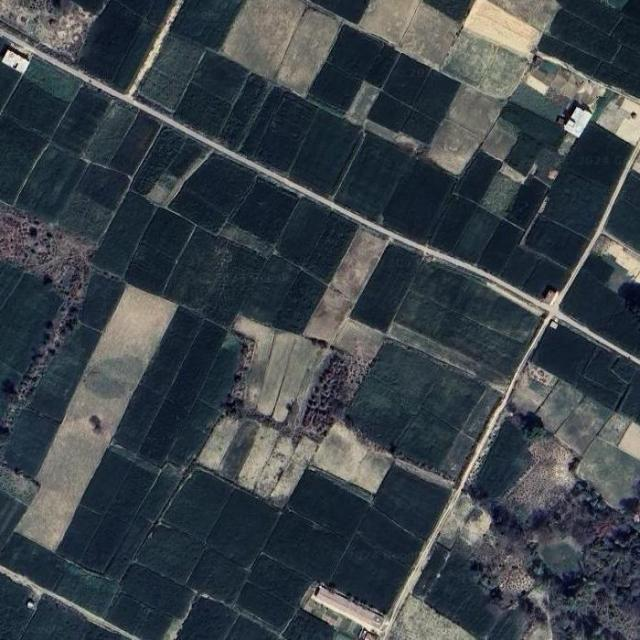land-Sx1C: (16, 285, 176, 550), (388, 260, 541, 393), (347, 339, 489, 471), (136, 318, 230, 468), (113, 307, 203, 454), (161, 227, 266, 329), (414, 537, 509, 640), (304, 227, 387, 342), (79, 463, 160, 574), (102, 470, 181, 583), (559, 250, 640, 360), (26, 321, 100, 423), (167, 153, 257, 236), (286, 107, 364, 201), (328, 533, 413, 619), (502, 434, 578, 530), (333, 133, 413, 224), (379, 159, 457, 248), (349, 242, 424, 334), (223, 0, 306, 81), (0, 273, 64, 377), (263, 509, 348, 586), (309, 420, 395, 495), (574, 436, 640, 532), (373, 463, 455, 540), (286, 469, 369, 543), (273, 7, 341, 96), (12, 145, 88, 224), (252, 90, 320, 177), (206, 489, 280, 568), (88, 191, 155, 276), (1, 0, 93, 60), (77, 0, 142, 82), (161, 468, 233, 542), (136, 34, 203, 112), (472, 421, 534, 504), (563, 121, 635, 192), (19, 594, 131, 639), (232, 174, 300, 245), (543, 169, 611, 240), (463, 0, 540, 60), (272, 338, 326, 423), (49, 85, 111, 159), (530, 320, 598, 387), (217, 73, 272, 153), (148, 137, 211, 205), (399, 1, 462, 68), (2, 78, 68, 141), (135, 523, 204, 583), (386, 596, 479, 640), (394, 409, 460, 471), (121, 565, 194, 621), (358, 507, 425, 568), (0, 535, 70, 593), (129, 126, 187, 195), (1, 409, 58, 479), (232, 315, 274, 409), (521, 215, 589, 273), (304, 213, 360, 283), (538, 533, 604, 592), (548, 10, 621, 63), (0, 118, 46, 202), (170, 0, 244, 52), (167, 400, 221, 471), (242, 257, 300, 323), (276, 198, 331, 267), (200, 333, 247, 412), (269, 433, 318, 508), (186, 548, 248, 607), (269, 271, 326, 334), (312, 586, 385, 635), (238, 83, 284, 160), (445, 82, 506, 140), (108, 112, 162, 177), (54, 566, 119, 620), (80, 449, 132, 516), (249, 555, 314, 608), (439, 28, 498, 86), (234, 421, 281, 493), (84, 101, 135, 167), (173, 83, 231, 141), (259, 332, 297, 420), (553, 399, 611, 456), (499, 101, 565, 151), (252, 431, 298, 502), (424, 119, 482, 174), (113, 23, 158, 93), (56, 192, 113, 247), (604, 169, 640, 255), (215, 415, 261, 482), (326, 25, 382, 80), (235, 581, 293, 634), (429, 192, 478, 254), (108, 595, 175, 640), (193, 51, 249, 104), (506, 364, 557, 421), (452, 207, 501, 266), (0, 571, 42, 639), (79, 270, 125, 332), (194, 411, 240, 473), (175, 596, 239, 640), (357, 0, 421, 44), (537, 33, 601, 77), (331, 319, 389, 367), (54, 506, 101, 565), (142, 209, 195, 261), (532, 380, 584, 433), (25, 56, 82, 103), (509, 84, 571, 127), (308, 64, 362, 113), (478, 220, 525, 276), (479, 46, 528, 99), (125, 244, 176, 294), (384, 54, 431, 108), (414, 69, 461, 123), (505, 175, 550, 230), (303, 599, 363, 639), (77, 165, 129, 211), (434, 492, 475, 550), (456, 152, 502, 203), (489, 0, 560, 33), (558, 1, 624, 35), (519, 258, 571, 301), (463, 388, 505, 441), (596, 93, 640, 143), (586, 347, 628, 397), (482, 603, 538, 640), (505, 130, 546, 176), (220, 223, 274, 257), (481, 172, 520, 218), (499, 247, 540, 290), (367, 93, 411, 132), (441, 432, 476, 480), (595, 62, 640, 99), (115, 0, 176, 27), (281, 609, 335, 639), (0, 463, 38, 505), (0, 488, 26, 549), (344, 81, 380, 125), (364, 44, 400, 88), (480, 121, 517, 161), (0, 360, 23, 421), (531, 147, 566, 187), (575, 378, 616, 411), (401, 110, 440, 144), (311, 0, 368, 22), (459, 507, 492, 545), (618, 369, 640, 425), (227, 615, 278, 639), (423, 0, 473, 22), (610, 17, 640, 53), (0, 261, 23, 306), (599, 413, 630, 445), (0, 64, 20, 111), (618, 424, 640, 460), (614, 47, 640, 77), (613, 358, 638, 383), (603, 0, 629, 11), (332, 631, 355, 640)
